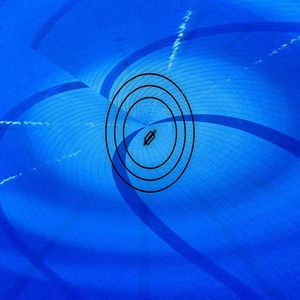circle: (103, 71, 200, 195)
submarine: (144, 124, 161, 150)
